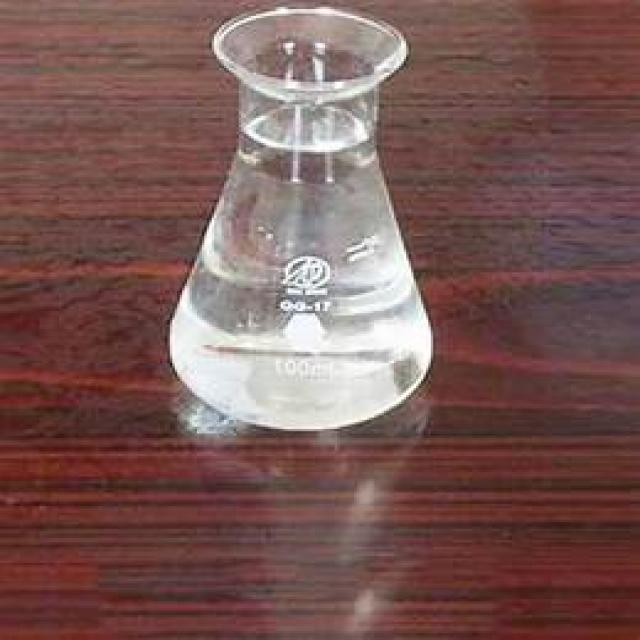Titrarion: (172, 13, 437, 429)
